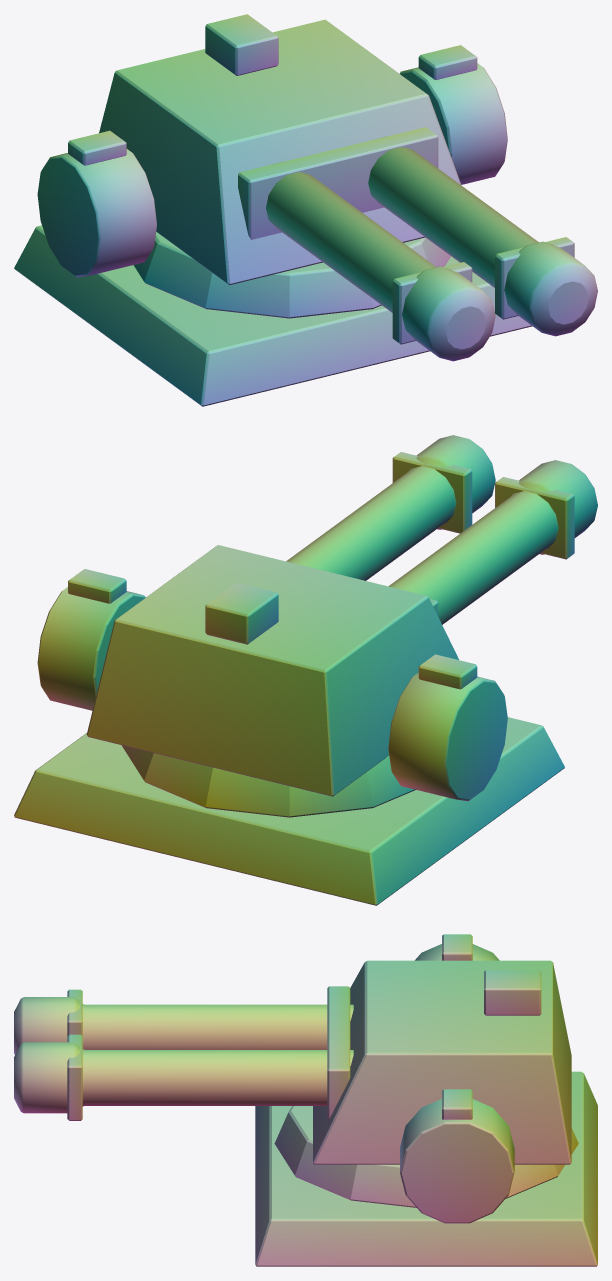
The model's file is addon_guns_rig.glb.
3 views of the same model, one above another, from view 1: azimuth 30°, elevation 25°; view 2: azimuth 150°, elevation 25°; view 3: azimuth 270°, elevation 25° (orthographic). The views are drawn at different scales.
Visible parts, largest first — view 1: body; view 2: body; view 3: body.
Part boxes in pixels (x1,y1,x2,y2): body: (14, 14, 597, 406); body: (14, 435, 597, 905); body: (14, 934, 597, 1266).
Size of the model in its own units: 11.2 by 6 by 15.28.
